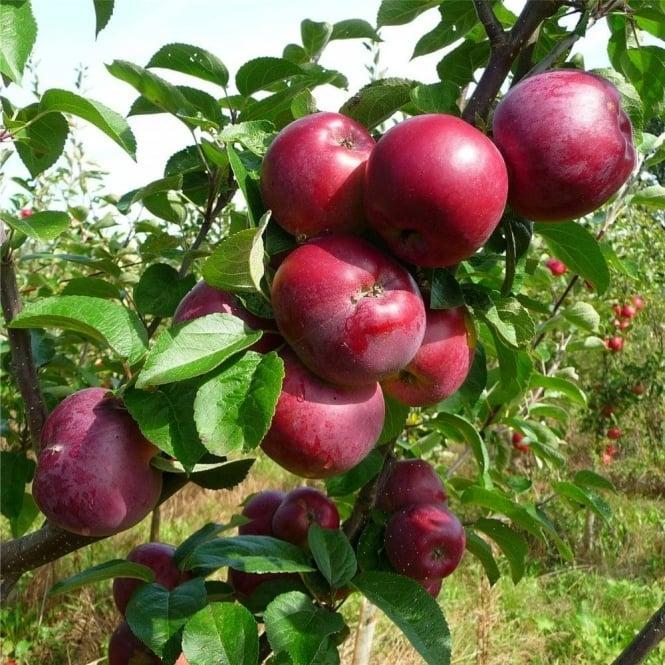apple: (269, 230, 427, 395), (487, 68, 635, 227), (362, 112, 509, 270), (36, 384, 164, 536), (248, 351, 389, 479), (257, 109, 378, 236), (378, 305, 471, 406), (381, 502, 465, 593)
